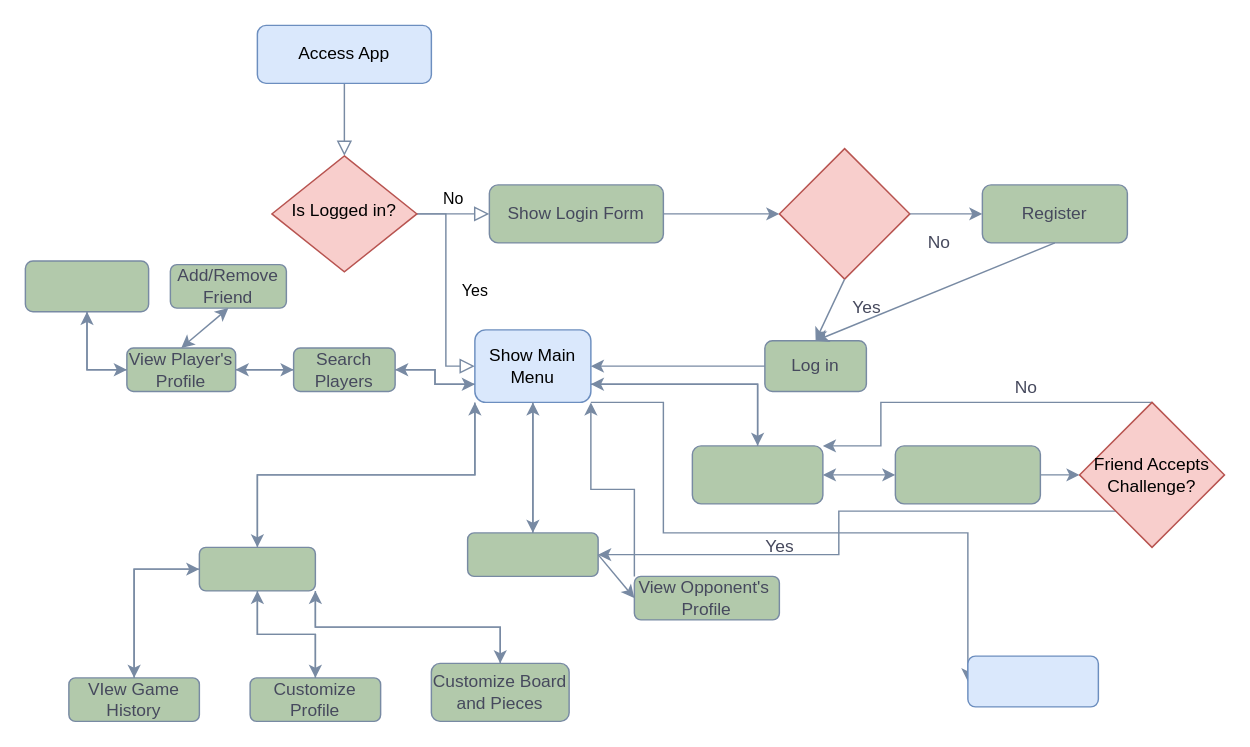
Some shapes in this 1250 by 747 pixel diagram are drawn without their labels. Here are the shapes that lost their labels. From the top down, the centre of each, then its label:
At point 844,213: "Is Registered?".
At point 86,286: "Spectate Ongoing Game".
At point 757,474: "View Friends List".
At point 967,474: "Challenge Friend to a Game".
At point 256,568: "View Own Profile".
At point 532,553: "Play a Game".
At point 1032,681: "Quit".
